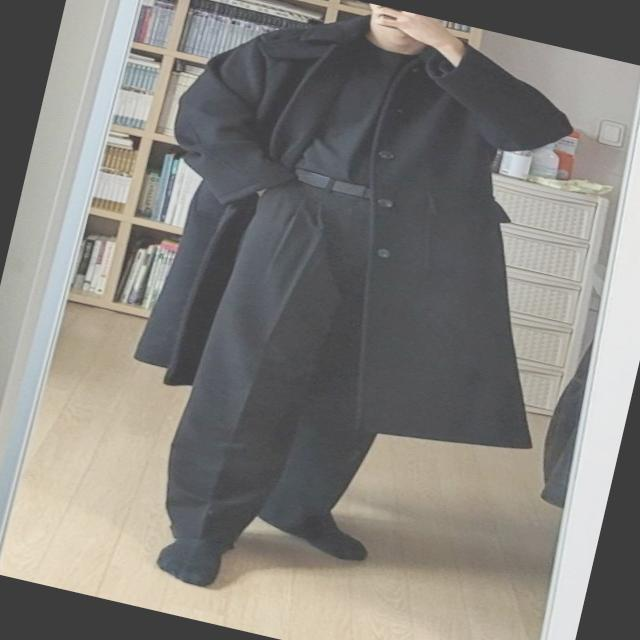coat: (112, 0, 623, 473)
slacks: (147, 152, 430, 582)
